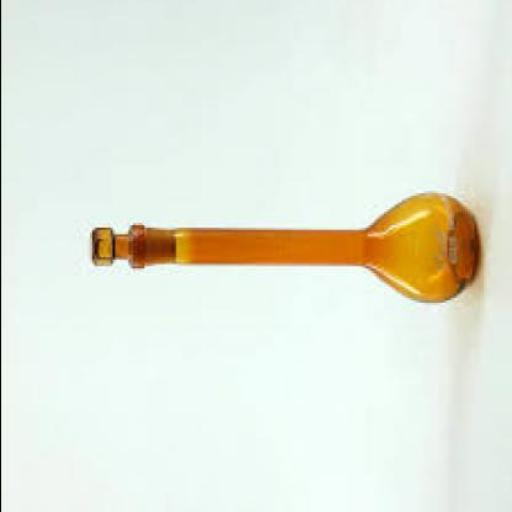glass: (86, 196, 476, 307)
